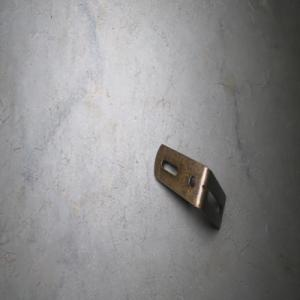MetalPart: (153, 142, 227, 231)
